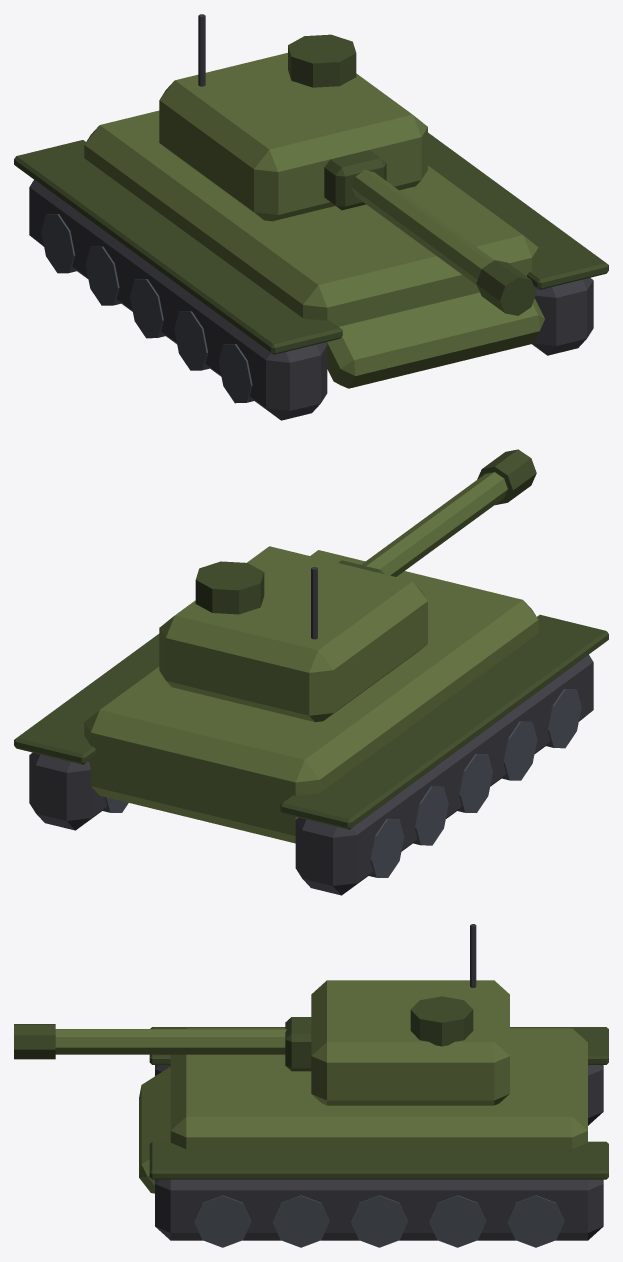
Rendered from Tank.fbx.
The picture shows the model from 3 angles, top to bottom: view 1: azimuth 30°, elevation 25°; view 2: azimuth 150°, elevation 25°; view 3: azimuth 270°, elevation 25°; orthographic projection. The views are drawn at different scales.
Parts seen in each view (by area): view 1: Tank, Tank_Turret; view 2: Tank, Tank_Turret; view 3: Tank, Tank_Turret.
Boxes of the visible parts, x1,y1,x2,y2 form: Tank: [14, 110, 608, 420]; Tank_Turret: [159, 14, 536, 315]; Tank: [14, 550, 608, 895]; Tank_Turret: [159, 449, 536, 722]; Tank: [139, 1027, 608, 1247]; Tank_Turret: [14, 924, 509, 1105].
Size of the model in its own units: 6.6 by 4.8 by 11.4.
1 material, 1 textured.
